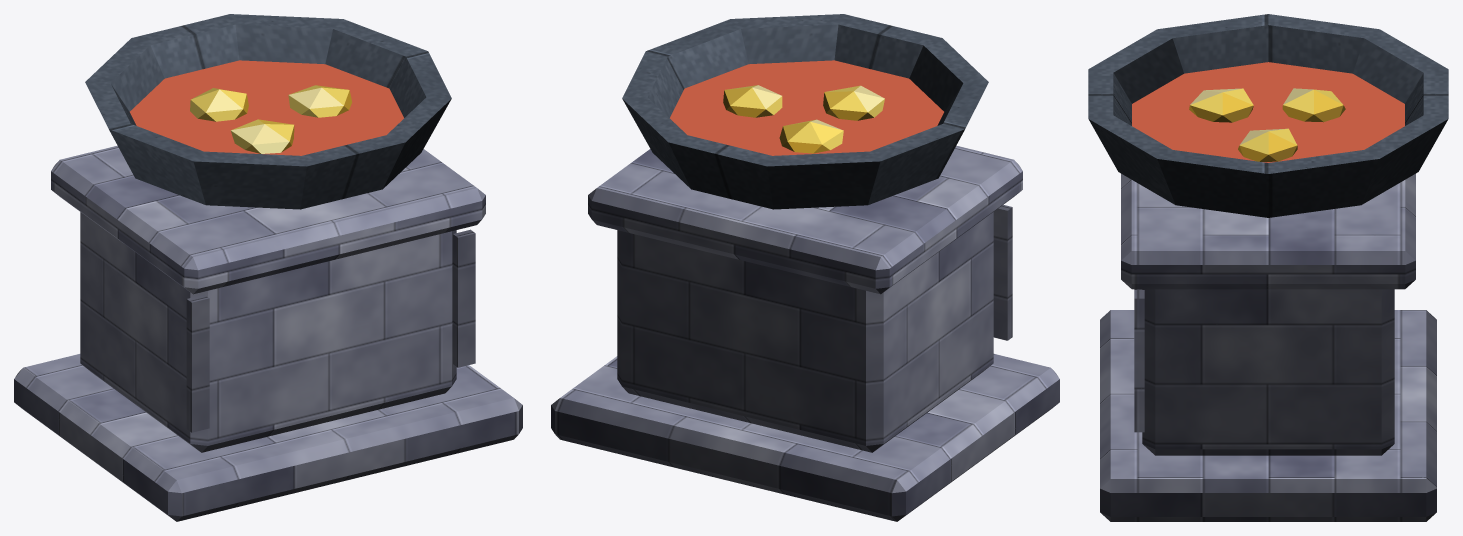
Rendered from brazier.glb.
3 views of the same model, side by side, from view 1: azimuth 30°, elevation 25°; view 2: azimuth 150°, elevation 25°; view 3: azimuth 270°, elevation 25° (orthographic). The views are drawn at different scales.
Visible parts, largest first — view 1: brazier; view 2: brazier; view 3: brazier.
Part boxes in pixels (x1,y1,x2,y2): brazier: [14, 14, 522, 521]; brazier: [551, 14, 1059, 521]; brazier: [1088, 14, 1448, 521].
Size of the model in its own units: 0.8 by 0.722 by 0.6848.
Materials: 5 (5 with a texture image).
